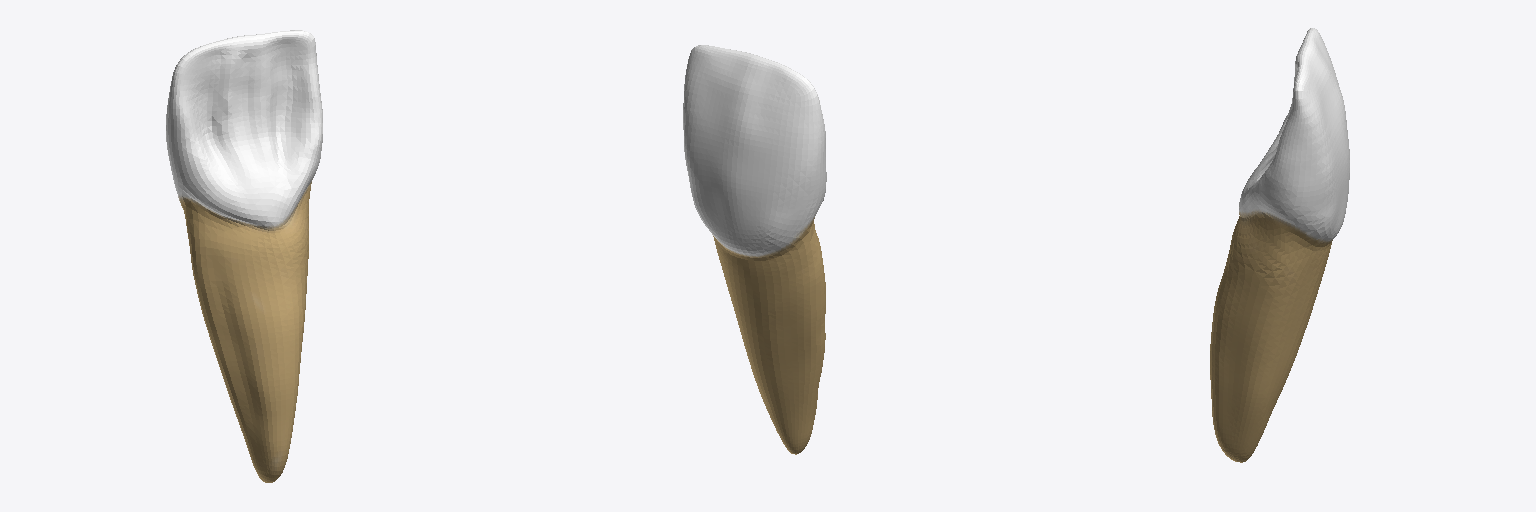
3 views of the same model, side by side, from view 1: azimuth 30°, elevation 25°; view 2: azimuth 150°, elevation 25°; view 3: azimuth 270°, elevation 25° (orthographic).
Visible parts, largest first — view 1: outer; view 2: outer; view 3: outer.
Boxes of the visible parts, x1,y1,x2,y2 form: outer: [166, 30, 322, 482]; outer: [683, 45, 826, 454]; outer: [1210, 28, 1349, 462].
Bounding box in the file's own units: 3.37 × 9.59 × 2.9.
Materials: 2 (1 with a texture image).